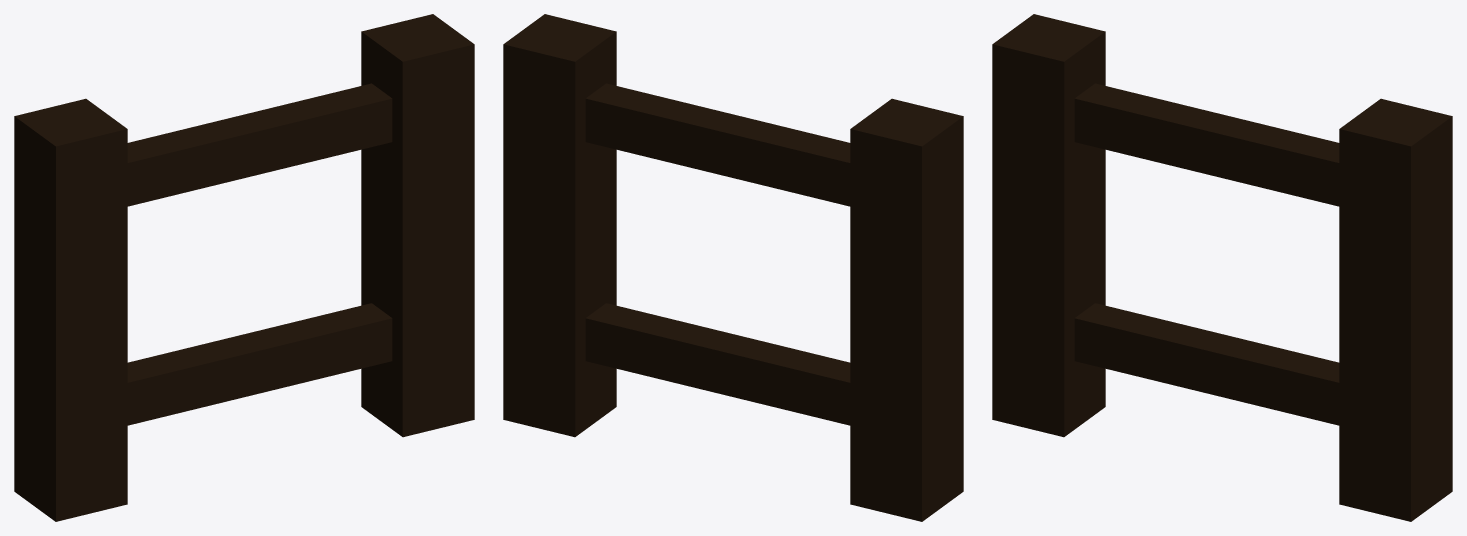
Rendered from fence.glb.
The picture shows the model from 3 angles, left to right: view 1: azimuth 30°, elevation 25°; view 2: azimuth 150°, elevation 25°; view 3: azimuth 330°, elevation 25°; orthographic projection.
Parts seen in each view (by area): view 1: Fence; view 2: Fence; view 3: Fence.
Boxes of the visible parts, <box> form: Fence: <box>14,14,474,521</box>; Fence: <box>503,14,963,521</box>; Fence: <box>992,14,1452,521</box>.
Bounding box in the file's own units: 1.17 × 1 × 0.2.
